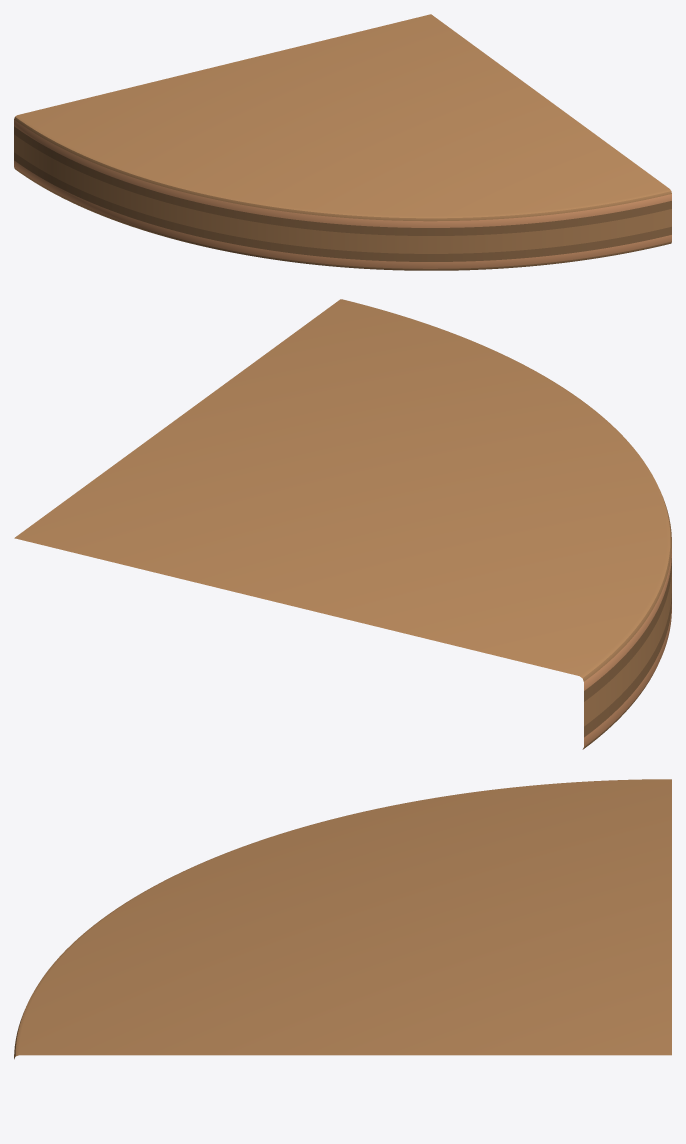
The model's file is platform_dirt_corner_round8.gltf.
3 views of the same model, one above another, from view 1: azimuth 30°, elevation 25°; view 2: azimuth 150°, elevation 25°; view 3: azimuth 270°, elevation 25° (orthographic). The views are drawn at different scales.
Parts seen in each view (by area): view 1: Cube_Dirt_Corner_Round8; view 2: Cube_Dirt_Corner_Round8; view 3: Cube_Dirt_Corner_Round8.
Part boxes in pixels (x1=…): Cube_Dirt_Corner_Round8: x1=14, y1=14, x2=671, y2=270; Cube_Dirt_Corner_Round8: x1=14, y1=299, x2=671, y2=749; Cube_Dirt_Corner_Round8: x1=14, y1=779, x2=671, y2=1059.
Bounding box in the file's own units: 16 × 2 × 16.
